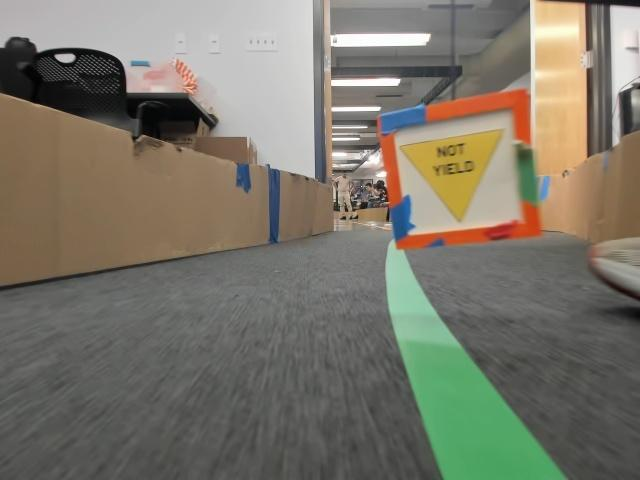Do Not Yield: (400, 144, 504, 229)
